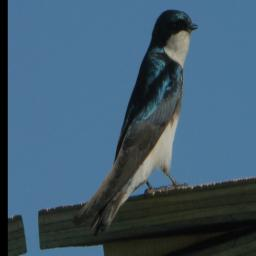Swallow: (52, 2, 218, 244)
